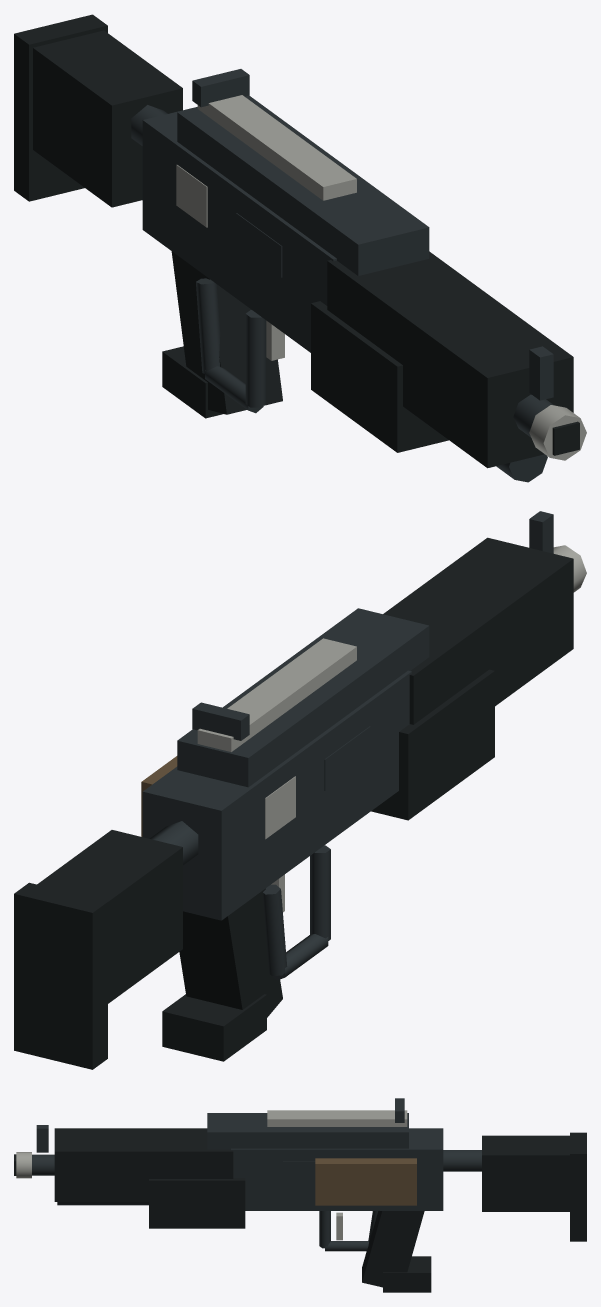
3 views of the same model, one above another, from view 1: azimuth 30°, elevation 25°; view 2: azimuth 150°, elevation 25°; view 3: azimuth 270°, elevation 25° (orthographic). The views are drawn at different scales.
Parts seen in each view (by area): view 1: weapon-shotgun-1-painted, weapon-pump-painted; view 2: weapon-shotgun-1-painted, weapon-pump-painted; view 3: weapon-shotgun-1-painted, weapon-pump-painted.
Part boxes in pixels (box(x1,y1,x2,y2)): weapon-shotgun-1-painted: box(14, 14, 586, 482); weapon-pump-painted: box(311, 301, 448, 452); weapon-shotgun-1-painted: box(14, 511, 586, 1069); weapon-pump-painted: box(371, 669, 494, 820); weapon-shotgun-1-painted: box(14, 1098, 586, 1292); weapon-pump-painted: box(149, 1178, 245, 1228).
Bounding box in the file's own units: 0.6294 × 1.71 × 4.95.
